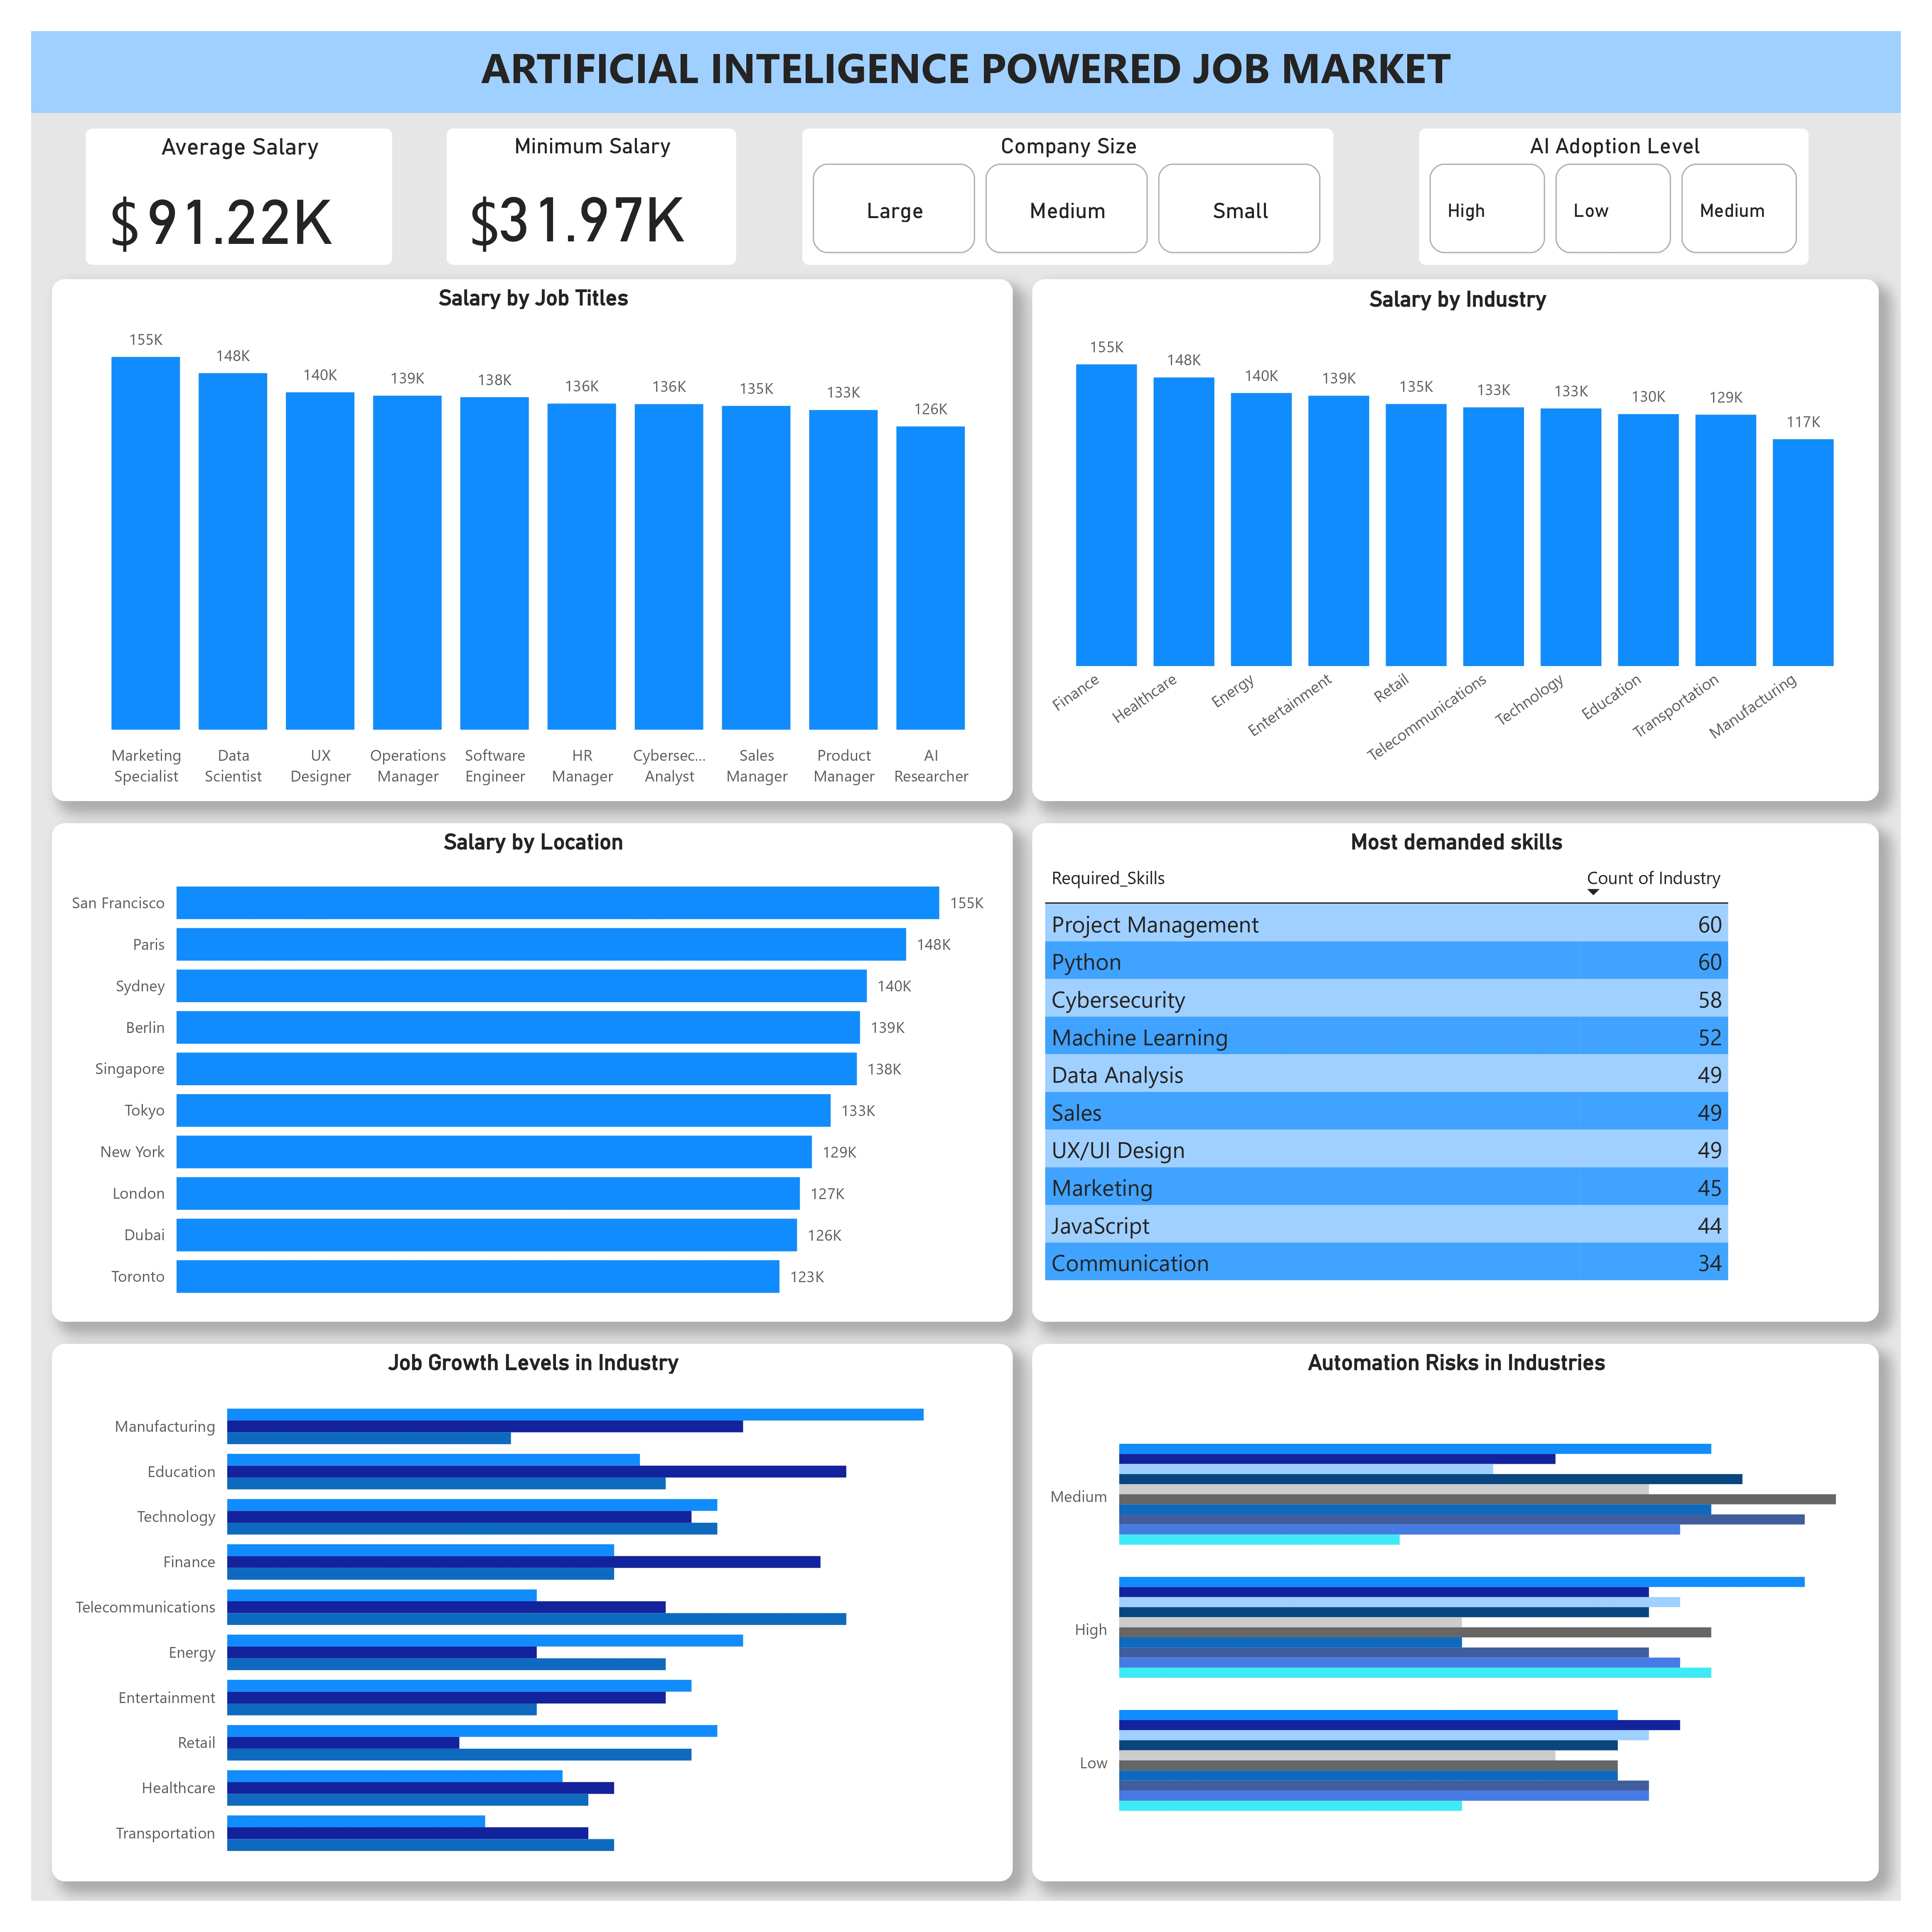

What the dashboard file says about the page in this screenshot:
{"tool":"powerbi","page":{"name":"Dashboard","canvas":[1440,1440],"ordinal":8},"visuals":[{"type":"textbox","box":[0,0,1440.3,62.7],"z":0},{"type":"cardVisual","title":"Minimum Salary","fields":{"Data":["Min(ai_job_market_insights.Salary_USD)"]},"box":[320,75.4,223.1,104.6],"z":1000},{"type":"cardVisual","title":"Average Salary","fields":{"Data":["Avg(ai_job_market_insights.Salary_USD)"]},"box":[41.5,75.4,236.9,104.6],"z":2000},{"type":"clusteredColumnChart","title":"Salary by Job Titles","fields":{"Y":["Max(ai_job_market_insights.Salary_USD)"],"Category":["ai_job_market_insights.Job_Title"]},"box":[16.1,190.8,740.2,402.3],"z":3000},{"type":"clusteredBarChart","title":"Salary  by Location","fields":{"Category":["ai_job_market_insights.Location"],"Y":["Max(ai_job_market_insights.Salary_USD)"]},"box":[16.1,610.3,740.2,383.9],"z":4000},{"type":"tableEx","title":"Most demanded skills","fields":{"Values":["ai_job_market_insights.Required_Skills","ai_job_market_insights.Industry"]},"box":[771.3,610.3,651.7,383.9],"z":5000},{"type":"clusteredBarChart","title":"Job Growth Levels in Industry ","fields":{"Category":["ai_job_market_insights.Industry"],"Y":["CountNonNull(ai_job_market_insights.Job_Growth_Projection)"],"Series":["ai_job_market_insights.Job_Growth_Projection"]},"box":[16.1,1011.5,740.2,413.8],"z":6000},{"type":"clusteredBarChart","title":"Automation Risks in Industries","fields":{"Category":["ai_job_market_insights.Automation_Risk"],"Series":["ai_job_market_insights.Industry"],"Y":["CountNonNull(ai_job_market_insights.Industry)"]},"box":[771.3,1011.5,651.7,413.8],"z":7000},{"type":"advancedSlicerVisual","title":"Company Size","fields":{"Values":["ai_job_market_insights.Company_Size"]},"box":[593.8,75.4,409.2,104.6],"z":8000},{"type":"clusteredColumnChart","title":"Salary by Industry","fields":{"Y":["Max(ai_job_market_insights.Salary_USD)"],"Category":["ai_job_market_insights.Industry"]},"box":[771.3,190.8,651.7,402.3],"z":9000},{"type":"advancedSlicerVisual","title":"AI Adoption Level","fields":{"Values":["ai_job_market_insights.AI_Adoption_Level"]},"box":[1069.2,75.4,300,104.6],"z":10000},{"type":"textbox","box":[53.8,107.7,75.4,83.1],"z":11000},{"type":"textbox","box":[330.8,107.7,75.4,83.1],"z":11001}]}

Visuals, with their boxes in screenshot pixels (x1, y1, x2, y2), scaled from the page's 1440x1440 canvas onto the 1932x1932 screenshot:
textbox: <region>0, 0, 1932, 84</region>
"Minimum Salary" cardVisual: <region>429, 101, 729, 241</region>
"Average Salary" cardVisual: <region>56, 101, 374, 241</region>
"Salary by Job Titles" clusteredColumnChart: <region>22, 256, 1015, 796</region>
"Salary  by Location" clusteredBarChart: <region>22, 819, 1015, 1334</region>
"Most demanded skills" tableEx: <region>1035, 819, 1909, 1334</region>
"Job Growth Levels in Industry " clusteredBarChart: <region>22, 1357, 1015, 1912</region>
"Automation Risks in Industries" clusteredBarChart: <region>1035, 1357, 1909, 1912</region>
"Company Size" advancedSlicerVisual: <region>796, 101, 1346, 241</region>
"Salary by Industry" clusteredColumnChart: <region>1035, 256, 1909, 796</region>
"AI Adoption Level" advancedSlicerVisual: <region>1435, 101, 1837, 241</region>
textbox: <region>72, 145, 173, 256</region>
textbox: <region>444, 145, 545, 256</region>
